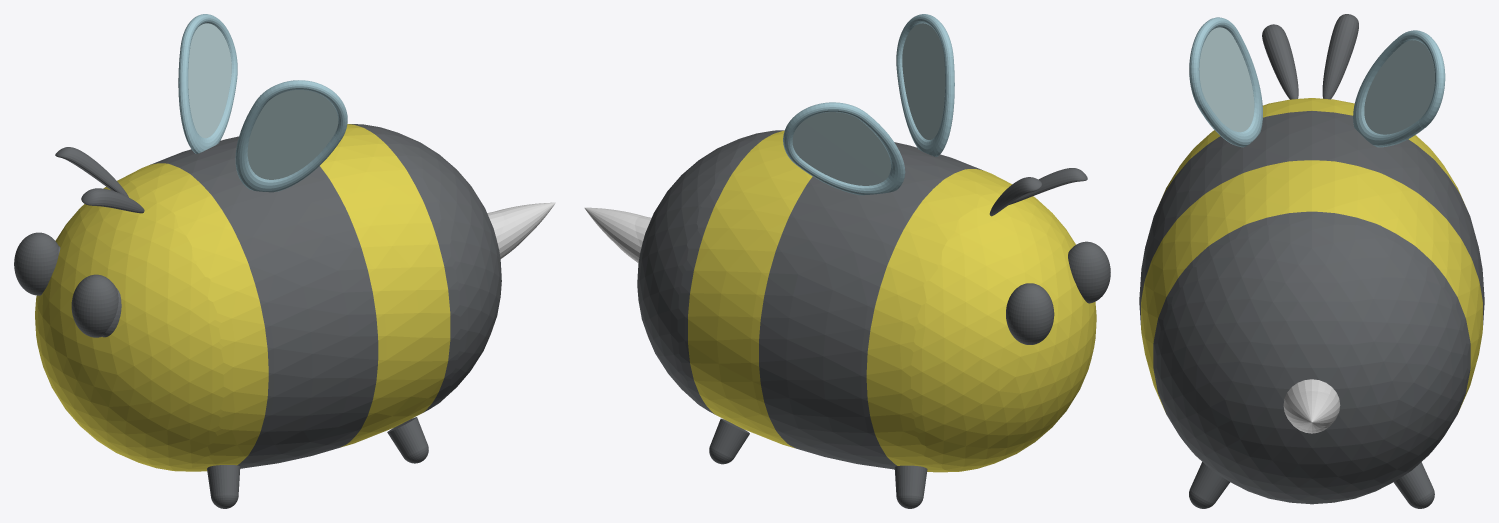
The model's file is abeja.glb.
3 views of the same model, side by side, from view 1: azimuth 30°, elevation 25°; view 2: azimuth 150°, elevation 25°; view 3: azimuth 270°, elevation 25° (orthographic). The views are drawn at different scales.
Visible parts, largest first — view 1: Mesh_Mesh_head_geo.001_lambert2SG.001; view 2: Mesh_Mesh_head_geo.001_lambert2SG.001; view 3: Mesh_Mesh_head_geo.001_lambert2SG.001.
Part boxes in pixels (<box>): Mesh_Mesh_head_geo.001_lambert2SG.001: <box>14,14,555,508</box>; Mesh_Mesh_head_geo.001_lambert2SG.001: <box>584,14,1110,508</box>; Mesh_Mesh_head_geo.001_lambert2SG.001: <box>1139,14,1484,508</box>.
Size of the model in its own units: 0.0356 by 0.0273 by 0.02.
